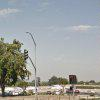Tree: (1, 31, 29, 89)
